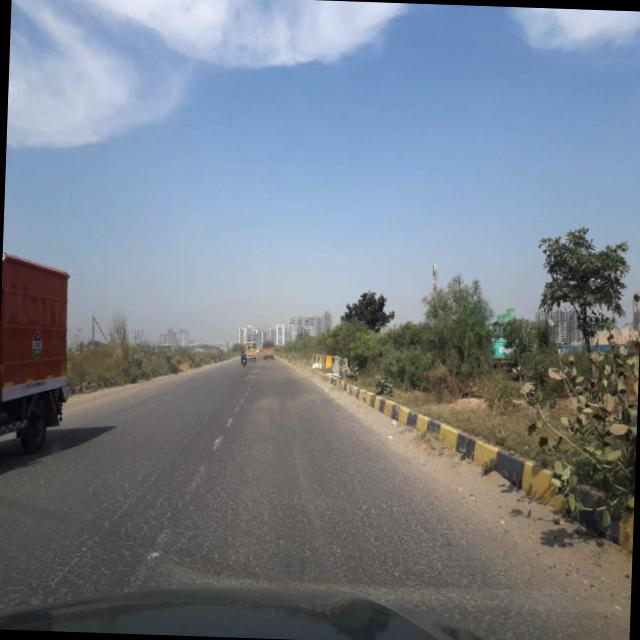crack: (0, 433, 526, 592), (44, 433, 190, 598)
